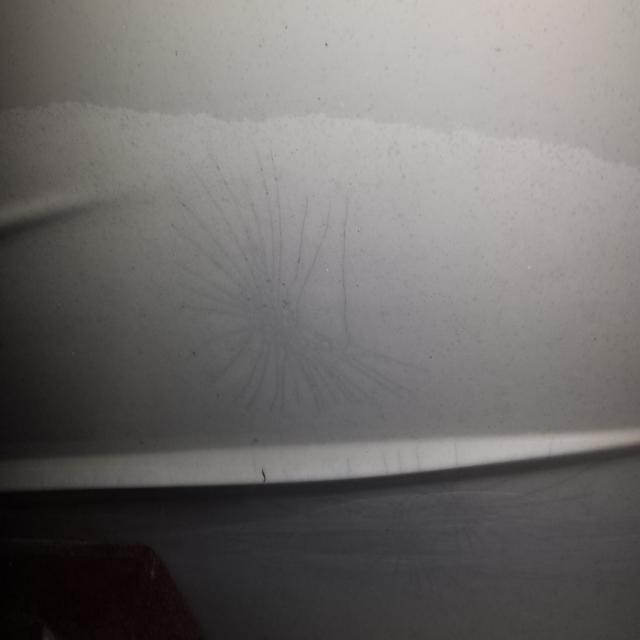Rupture: (171, 151, 428, 411), (338, 194, 351, 331)
